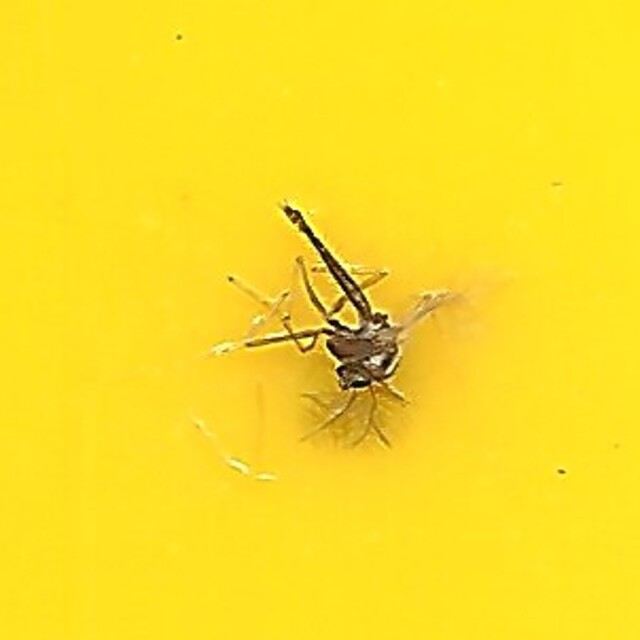Nematocera: (212, 189, 428, 451)
